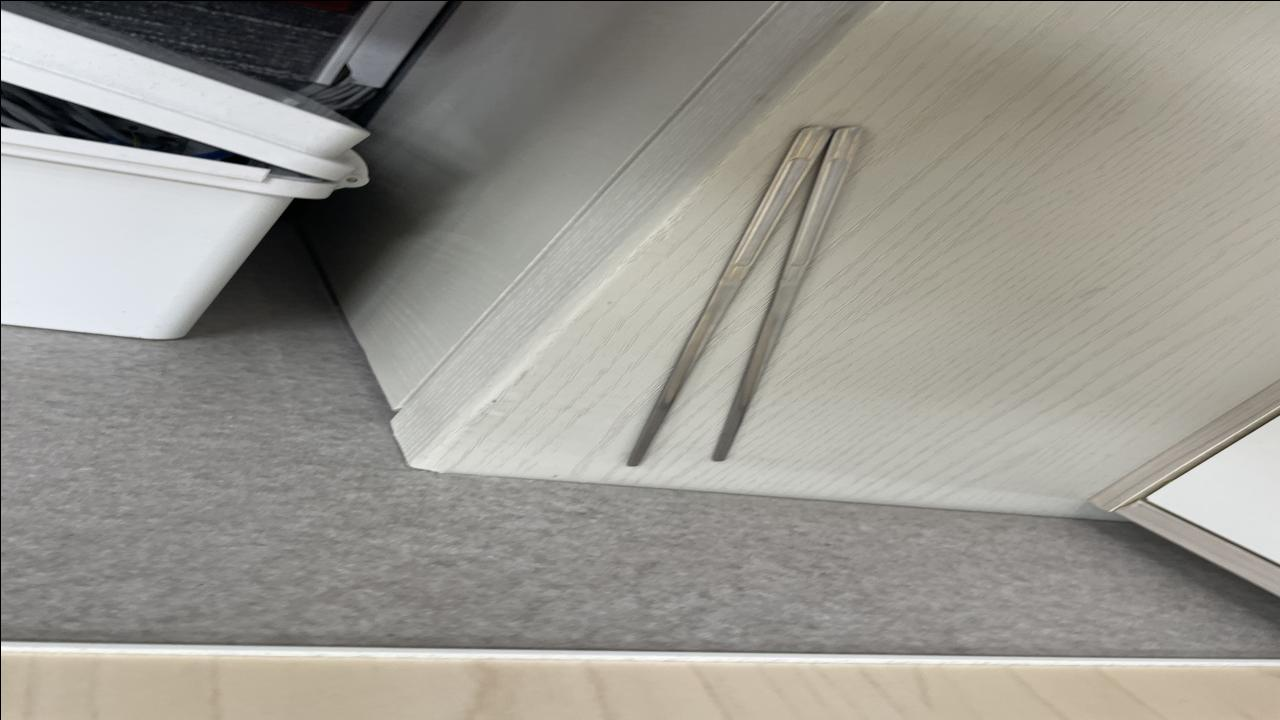chopstick: (623, 124, 871, 464)
